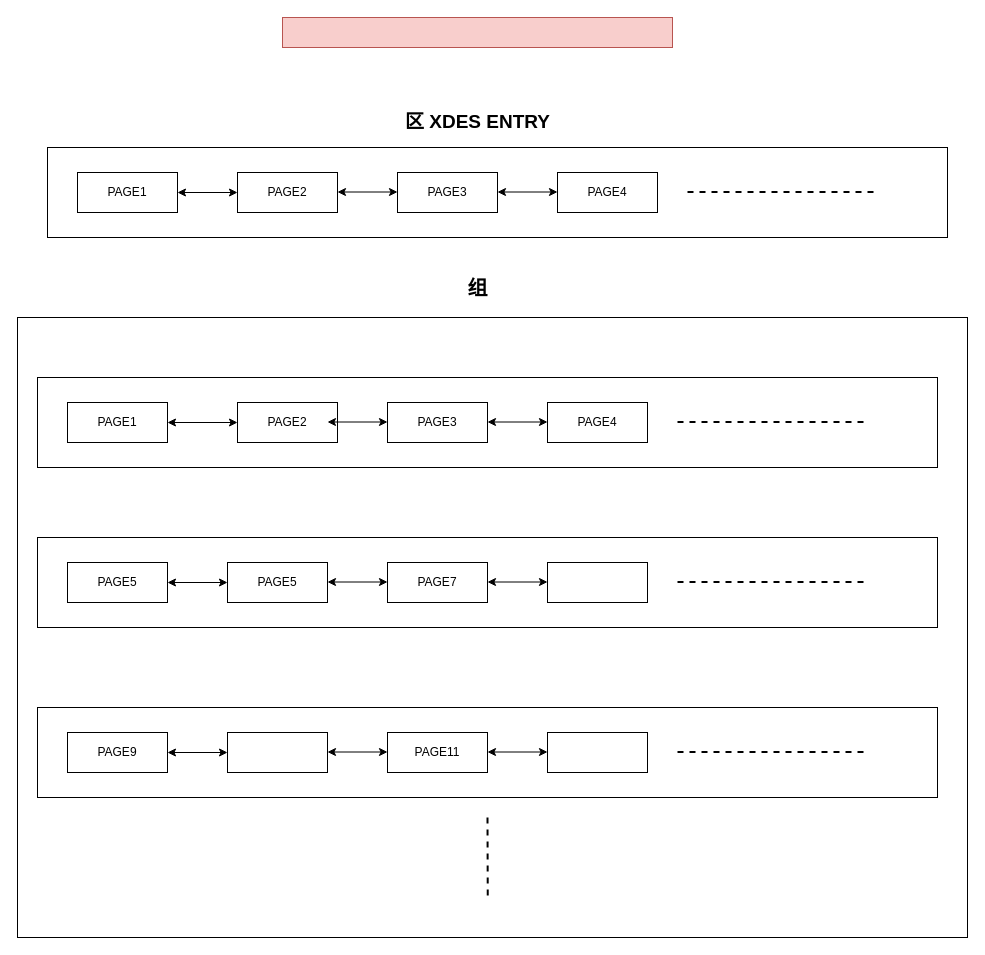
The diagram is 985 pixels wide and 955 high, and some of its shapes have lost their labels. The shapes that lost their labels are listed below. From the top down, each one's centre as x and y in pixels, then its label:
At pixel 477 32: "一个数据页16kb,64个数据页组成一个区即1M,256个区组成一组256M".
At pixel 597 582: "PAGE8".
At pixel 277 752: "PAGE10".
At pixel 597 752: "PAGE12".
